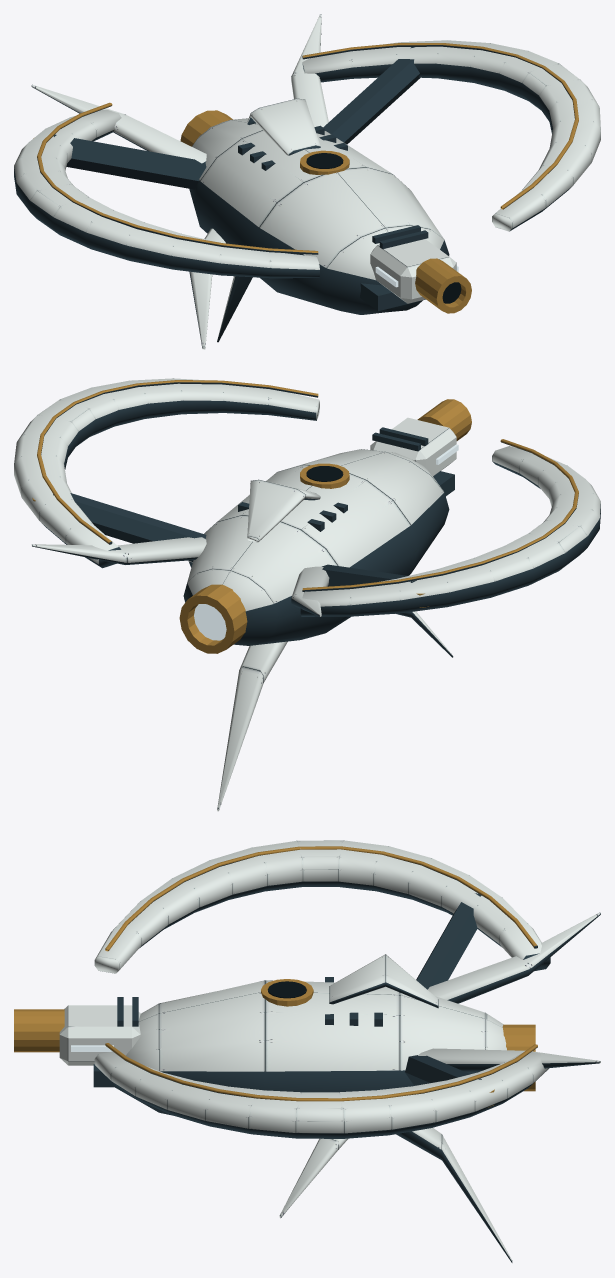
Rendered from pioneer-europa-l10-laser.glb.
The picture shows the model from 3 angles, top to bottom: view 1: azimuth 30°, elevation 25°; view 2: azimuth 150°, elevation 25°; view 3: azimuth 270°, elevation 25°; orthographic projection. The views are drawn at different scales.
Visible parts, largest first — view 1: Drone; view 2: Drone; view 3: Drone.
Boxes of the visible parts, x1,y1,x2,y2 form: Drone: [14, 14, 600, 349]; Drone: [14, 378, 600, 811]; Drone: [14, 840, 600, 1262].
Size of the model in its own units: 1.85 by 0.9361 by 1.67.
3 materials, 3 textured.
